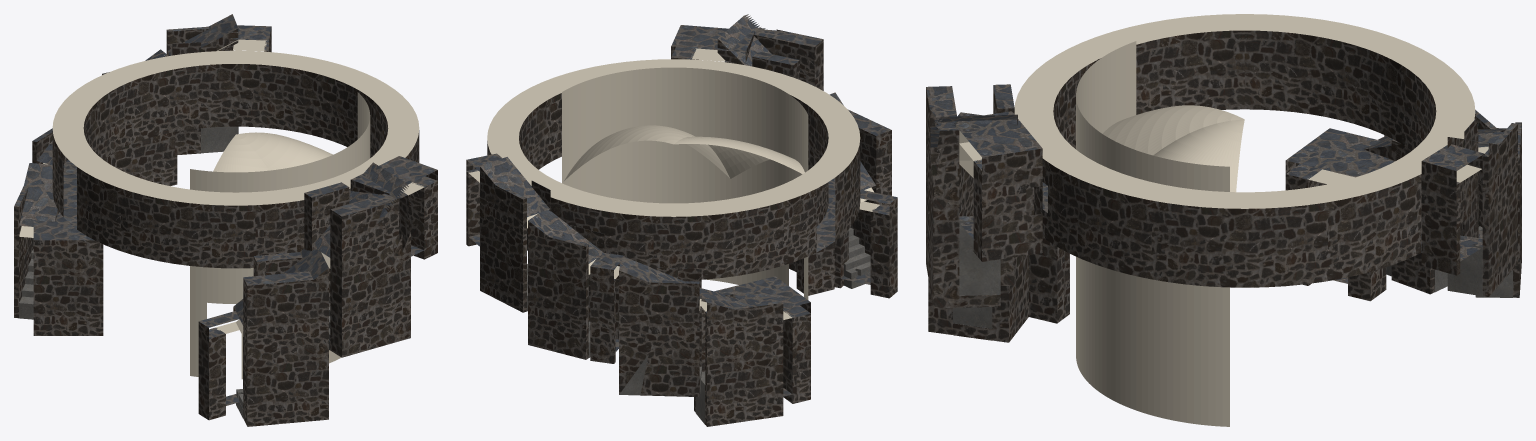
Rendered from kappeli-kavely.glb.
The picture shows the model from 3 angles, left to right: view 1: azimuth 30°, elevation 25°; view 2: azimuth 150°, elevation 25°; view 3: azimuth 270°, elevation 25°; orthographic projection. The views are drawn at different scales.
Parts seen in each view (by area): view 1: kappeli_architecture; view 2: kappeli_architecture; view 3: kappeli_architecture.
Part boxes in pixels (x1=…): kappeli_architecture: x1=14, y1=14, x2=437, y2=426; kappeli_architecture: x1=466, y1=14, x2=897, y2=426; kappeli_architecture: x1=926, y1=14, x2=1521, y2=426.
Bounding box in the file's own units: 10.93 × 6.85 × 13.69.
5 materials, 3 textured.
